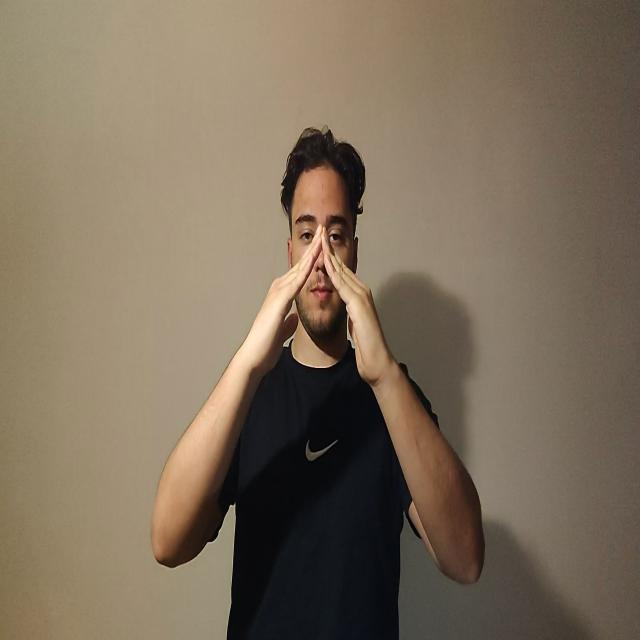house: (240, 230, 382, 386)
